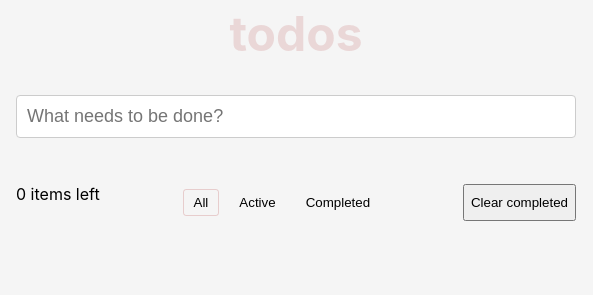
Test case: adds a new task
Type "New Task" into the field with placeholder "What needs to be done?" at (296, 117), box [16,95,576,138]
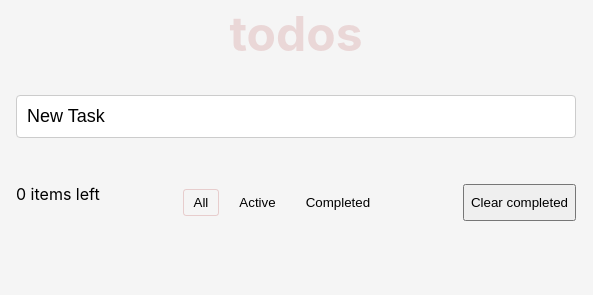
Press Enter in the field with placeholder "What needs to be done?", box [16,95,576,138]
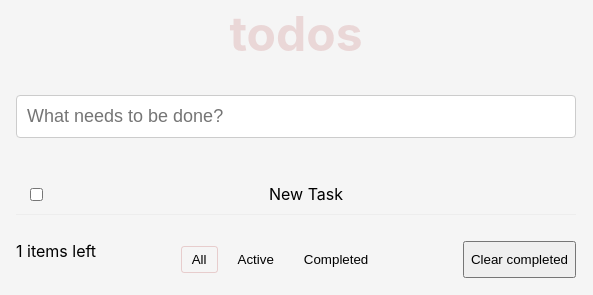
Expected: the text "New Task" is shown, [269,184,343,204]
